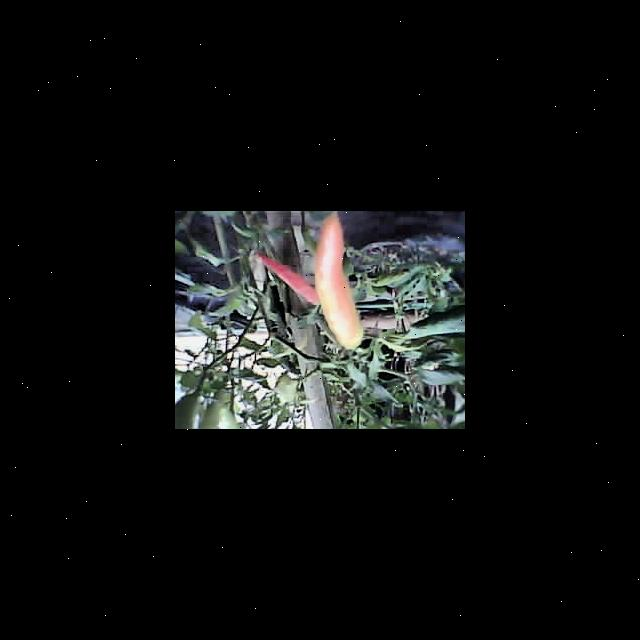Cabai: (316, 219, 367, 343), (260, 255, 311, 298)
